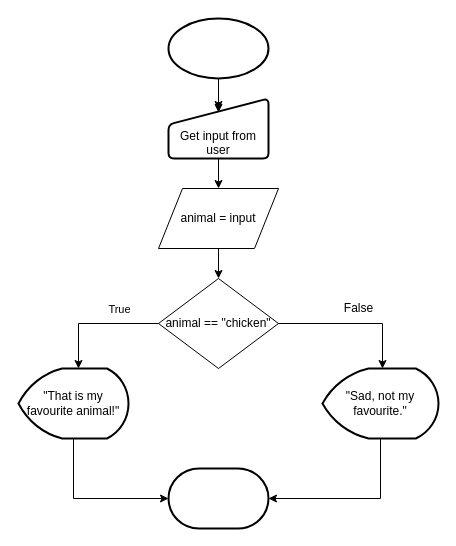
Image size: 456x546. Some labels were removed from this diagram. The shapes that lost their labels are listed below. From the top down, each one's centre as x and y in pixels, then its label:
point (218, 48): Start
point (218, 498): End
